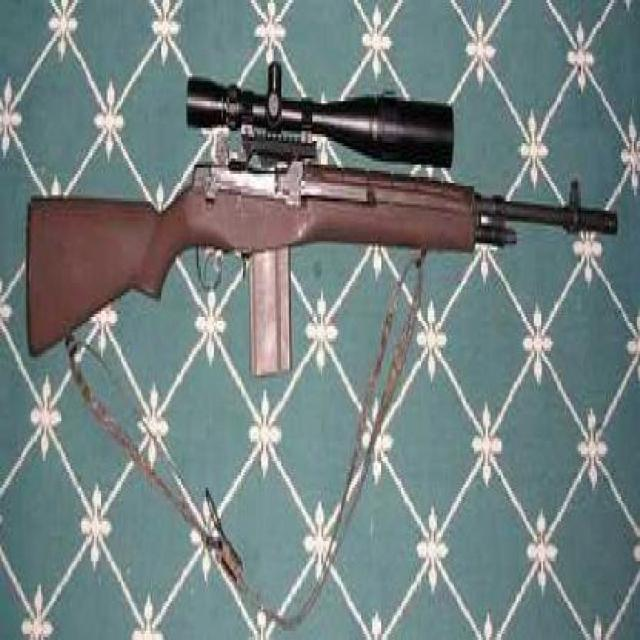weapon: (43, 108, 613, 372)
